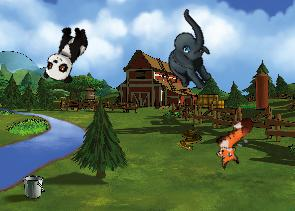elephant: (146, 8, 234, 97)
fox: (205, 114, 267, 172)
panda: (40, 20, 92, 87)
